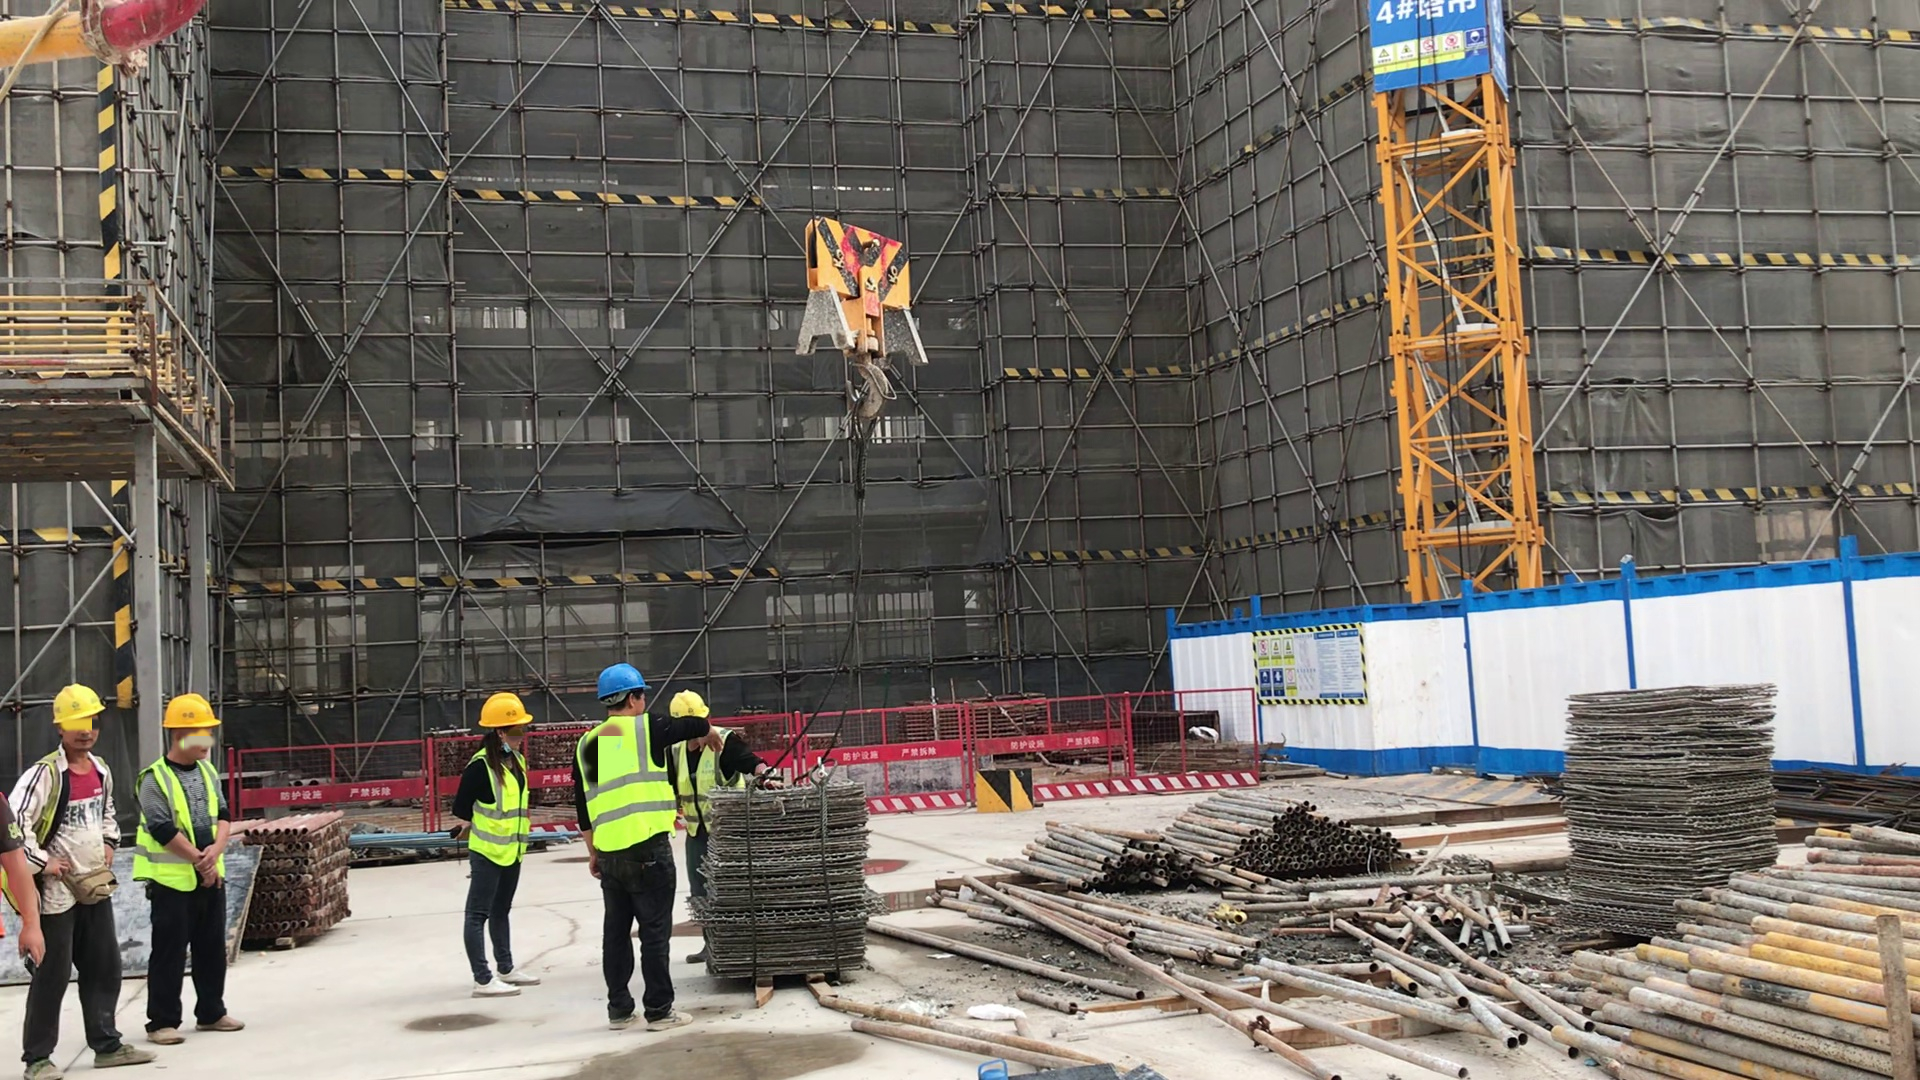fence: (1044, 687, 1262, 801), (863, 705, 965, 815), (352, 730, 444, 824), (247, 742, 354, 808), (978, 689, 1043, 763)
helmet: (48, 684, 105, 724), (474, 693, 534, 731), (593, 664, 654, 699), (162, 697, 224, 730), (675, 692, 711, 718)
hook: (796, 215, 936, 416)
person: (575, 662, 683, 1016), (19, 683, 124, 1012), (133, 695, 232, 1014), (454, 690, 545, 1001), (2, 790, 48, 973), (672, 688, 744, 789)
scaffold: (1540, 824, 1917, 1080), (989, 790, 1419, 889), (250, 804, 355, 949)
slogan: (1254, 628, 1368, 706), (1370, 5, 1492, 78)
vest: (577, 713, 681, 855), (133, 755, 230, 893), (472, 745, 531, 871), (677, 729, 743, 792)
